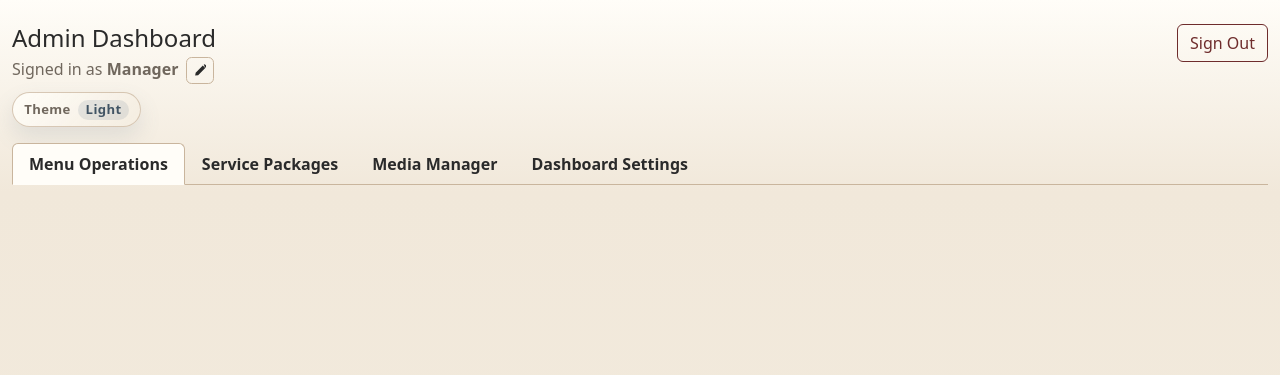
Scenario: AdminDashboard › hides user-management buttons for non-delegated tier 1 users while keeping dashboard settings
Check: the text "Menu Operations" is shown, box [29, 153, 168, 175]
Click the tab "Dashboard Settings".
click(610, 164)  # box [531, 153, 688, 175]
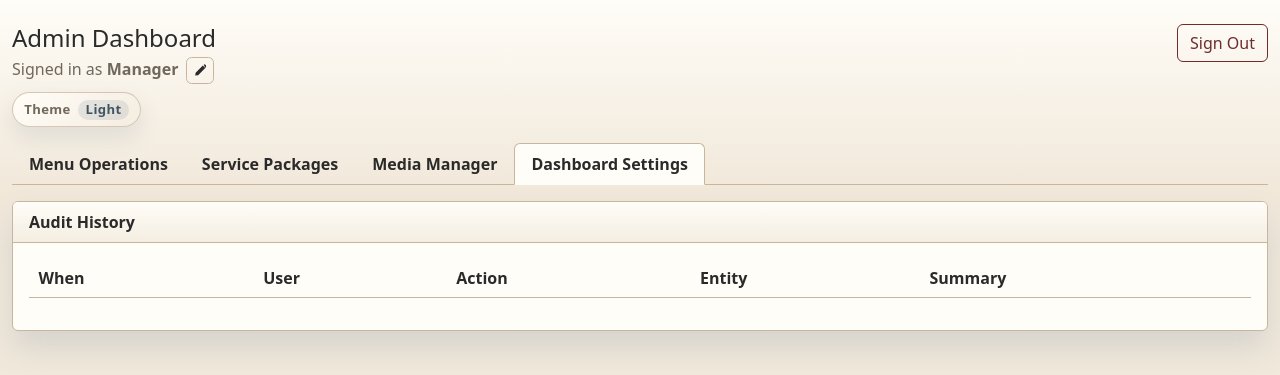
Check: the text "Audit History" is shown, box [13, 202, 1267, 243]
